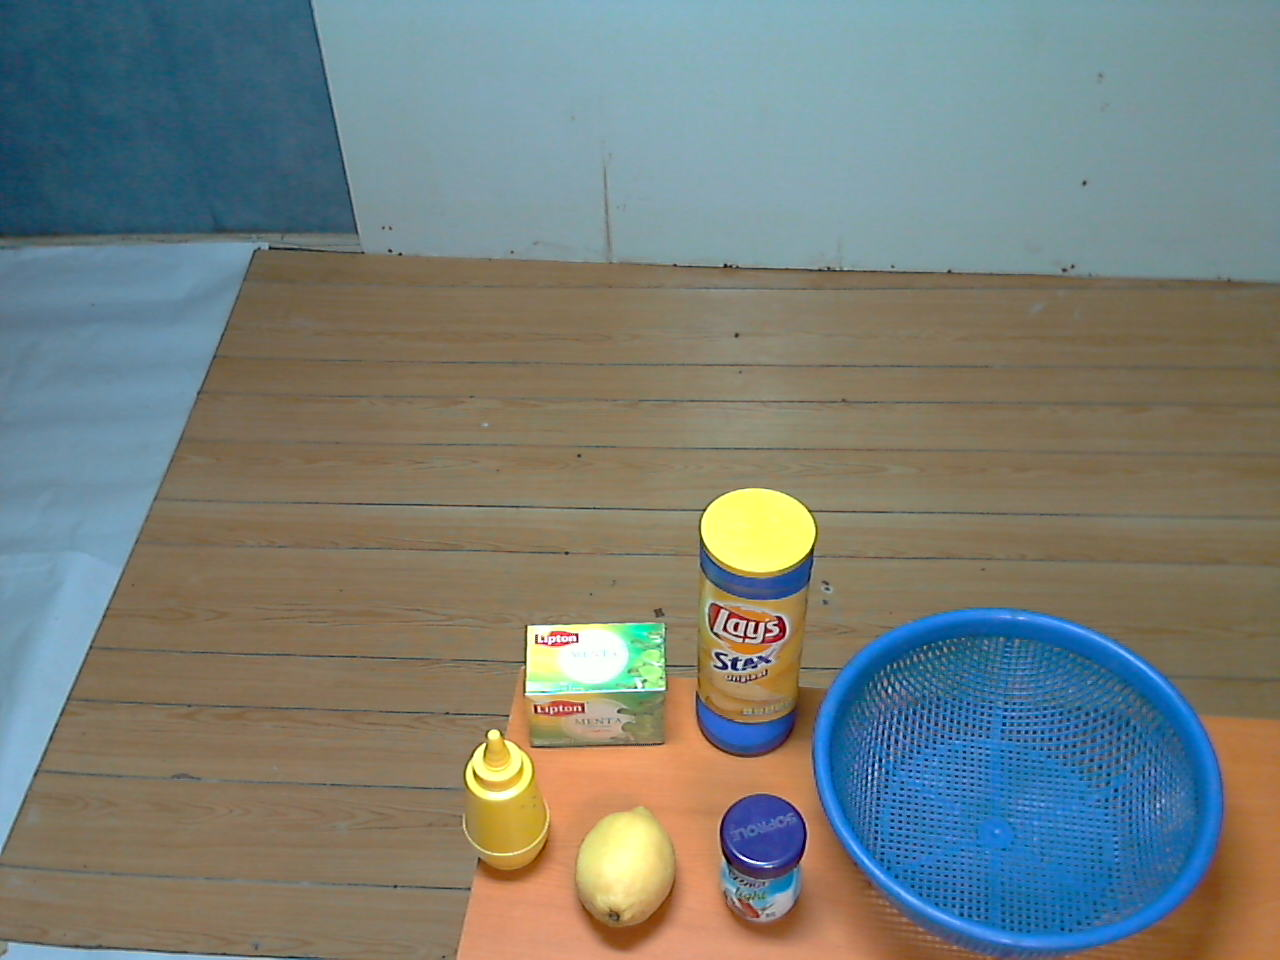colador: (801, 600, 1237, 960)
crema: (705, 788, 816, 939)
limon: (566, 804, 680, 947)
mostaza: (451, 726, 558, 878)
papas: (686, 479, 827, 763)
te: (507, 614, 679, 757)
